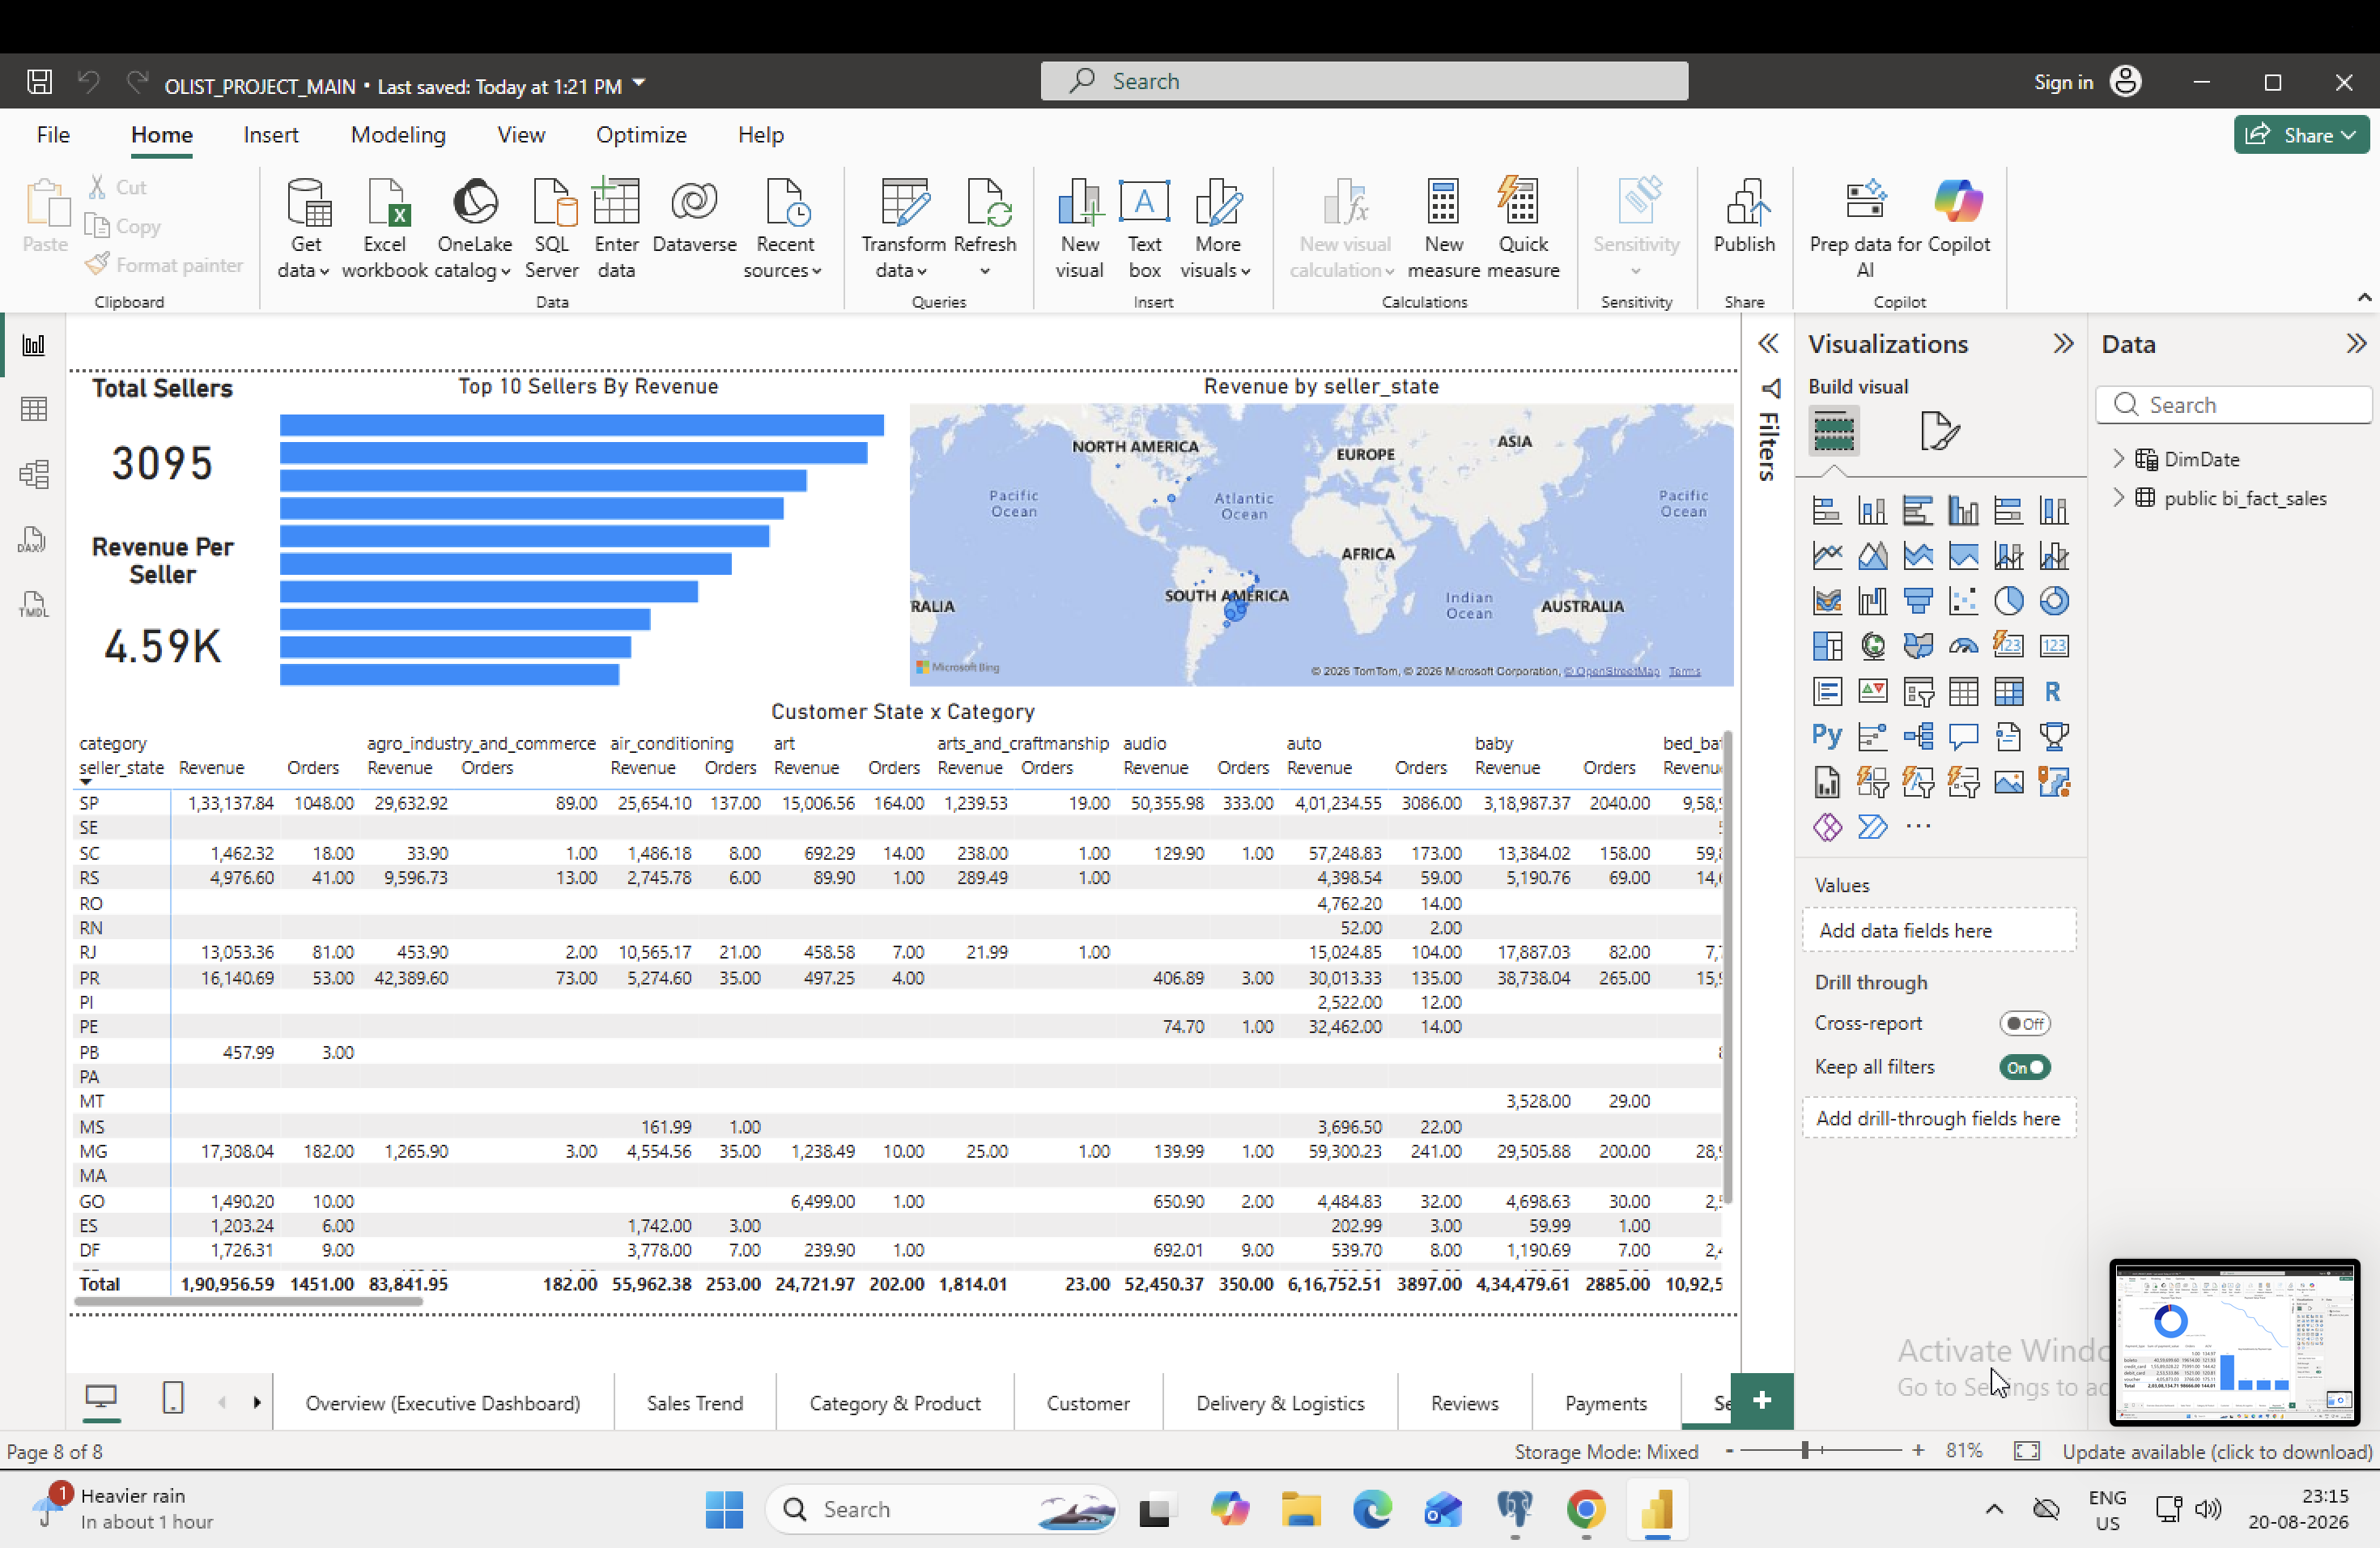

What the dashboard file says about the page in this screenshot:
{"tool":"powerbi","page":{"name":"Sellers","canvas":[1280,720],"ordinal":7},"visuals":[{"type":"card","title":"Total Sellers","fields":{"Values":["public bi_fact_sales.Sellers"]},"box":[0,0,147.5,109.3],"z":0},{"type":"card","title":"Revenue Per Seller","fields":{"Values":["public bi_fact_sales.Revenue per Seller"]},"box":[0,121.2,147.5,123.8],"z":1000},{"type":"barChart","title":"Top 10 Sellers By Revenue","fields":{"Y":["public bi_fact_sales.Revenue"],"Category":["public bi_fact_sales.seller_id"]},"box":[158,0,482,244.9],"z":2000},{"type":"map","fields":{"Category":["public bi_fact_sales.seller_state"],"Size":["public bi_fact_sales.Revenue"]},"box":[640,0,640,244.9],"z":3000},{"type":"pivotTable","title":"Customer State x Category","fields":{"Values":["public bi_fact_sales.Revenue","public bi_fact_sales.Orders"],"Columns":["public bi_fact_sales.category"],"Rows":["public bi_fact_sales.seller_state"]},"box":[0,248.6,1280,471.4],"z":4000}]}

Visuals, with their boxes on the page's 1280x720 design canvas (x1, y1, x2, y2). These are canvas units, not pixel positions in the 2380x1548 screenshot, which may show the page scaled, cropped or inside an application window:
"Total Sellers" card: Rect(0, 0, 148, 109)
"Revenue Per Seller" card: Rect(0, 121, 148, 245)
"Top 10 Sellers By Revenue" barChart: Rect(158, 0, 640, 245)
map - public bi_fact_sales.seller_state x public bi_fact_sales.Revenue: Rect(640, 0, 1280, 245)
"Customer State x Category" pivotTable: Rect(0, 249, 1280, 720)
